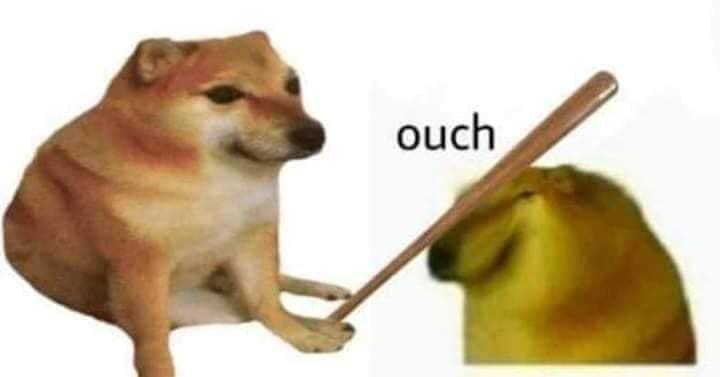dog: (1, 30, 358, 377)
